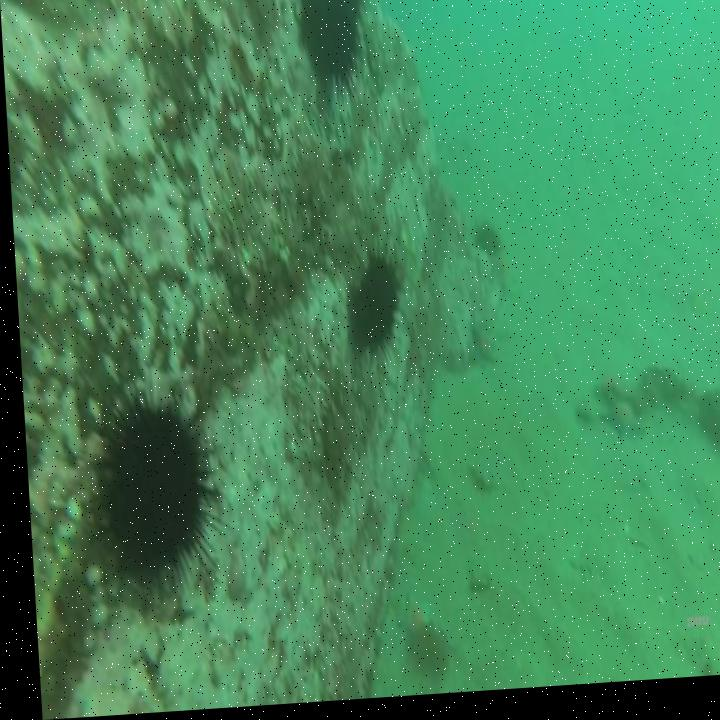echinus: (96, 412, 203, 569), (295, 0, 364, 79), (349, 265, 397, 358), (471, 231, 497, 266)
starfish: (594, 400, 636, 450), (466, 325, 497, 371)
